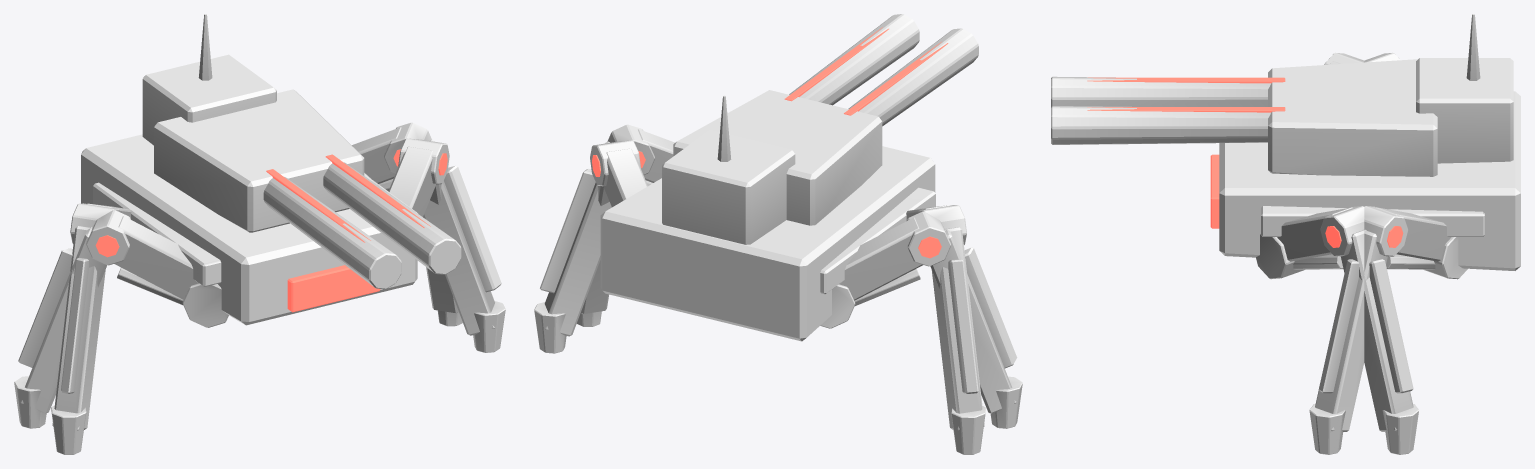
File: e5_deck_bastion.glb
The picture shows the model from 3 angles, left to right: view 1: azimuth 30°, elevation 25°; view 2: azimuth 150°, elevation 25°; view 3: azimuth 270°, elevation 25°; orthographic projection.
Parts seen in each view (by area): view 1: TurretBox, HullSlab, RearBridge, SiegeTube_0.24, SiegeTube_-0.24, Leg_L2_Tibia, Leg_L1_Femur, Leg_R2_Tibia, Leg_L1_Tibia, FrontFurnaceSlit, HullCrimsonBand, Leg_R2_ArmorPlate (+17 smaller); view 2: HullSlab, TurretBox, RearBridge, SiegeTube_-0.24, SiegeTube_0.24, Leg_R1_Tibia, Leg_L1_Tibia, Leg_L2_Femur, Leg_L2_Tibia, Leg_L1_ArmorPlate, HullCrimsonBand, Leg_R1_ArmorPlate (+16 smaller); view 3: HullSlab, TurretBox, RearBridge, SiegeTube_0.24, SiegeTube_-0.24, Leg_R1_Tibia, Leg_R2_Tibia, Leg_R1_ArmorPlate, HullCrimsonBand, Leg_R2_ArmorPlate, Leg_R1_Femur, Leg_R2_Femur (+12 smaller).
Boxes of the visible parts, x1,y1,x2,y2 form: TurretBox: [154, 89, 364, 232]; HullSlab: [81, 134, 417, 325]; RearBridge: [142, 54, 276, 145]; SiegeTube_0.24: [323, 162, 461, 274]; SiegeTube_-0.24: [263, 177, 401, 289]; Leg_L2_Tibia: [52, 226, 105, 430]; Leg_L1_Femur: [114, 216, 198, 299]; Leg_R2_Tibia: [423, 139, 494, 335]; Leg_L1_Tibia: [20, 227, 106, 413]; FrontFurnaceSlit: [287, 265, 380, 312]; HullCrimsonBand: [93, 180, 418, 286]; Leg_R2_ArmorPlate: [444, 166, 501, 292]; HullSlab: [600, 146, 935, 341]; TurretBox: [673, 90, 882, 225]; RearBridge: [662, 130, 795, 244]; SiegeTube_-0.24: [848, 28, 978, 126]; SiegeTube_0.24: [789, 14, 919, 105]; Leg_R1_Tibia: [544, 141, 611, 336]; Leg_L1_Tibia: [931, 227, 984, 430]; Leg_L2_Femur: [839, 217, 922, 300]; Leg_L2_Tibia: [930, 228, 1016, 413]; Leg_L1_ArmorPlate: [948, 259, 978, 393]; HullCrimsonBand: [820, 187, 935, 294]; Leg_R1_ArmorPlate: [540, 168, 595, 293]; HullSlab: [1219, 91, 1520, 270]; TurretBox: [1268, 59, 1437, 176]; RearBridge: [1416, 58, 1513, 163]; SiegeTube_0.24: [1051, 106, 1270, 144]; SiegeTube_-0.24: [1051, 76, 1270, 106]; Leg_R1_Tibia: [1340, 229, 1413, 431]; Leg_R2_Tibia: [1315, 229, 1387, 431]; Leg_R1_ArmorPlate: [1369, 259, 1413, 393]; HullCrimsonBand: [1261, 206, 1484, 236]; Leg_R2_ArmorPlate: [1319, 259, 1359, 393]; Leg_R1_Femur: [1277, 207, 1352, 261]; Leg_R2_Femur: [1376, 207, 1451, 261].
Bounding box in the file's own units: 3.01 × 2.12 × 2.71.
